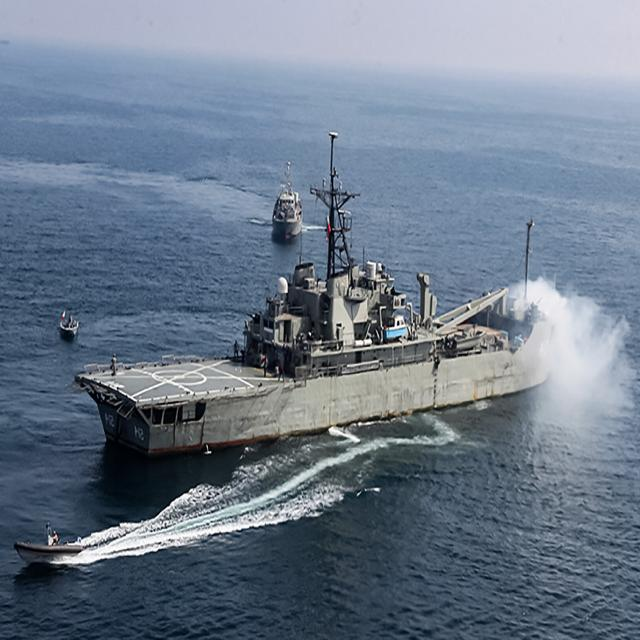navalvessels: (89, 218, 555, 500), (271, 174, 322, 252)
